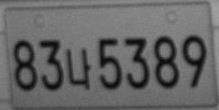3: (39, 39, 64, 90), (125, 38, 149, 89)
5: (98, 38, 122, 90)
8: (154, 35, 179, 88), (13, 39, 38, 91)
9: (182, 35, 208, 87)
나: (65, 48, 91, 89)
